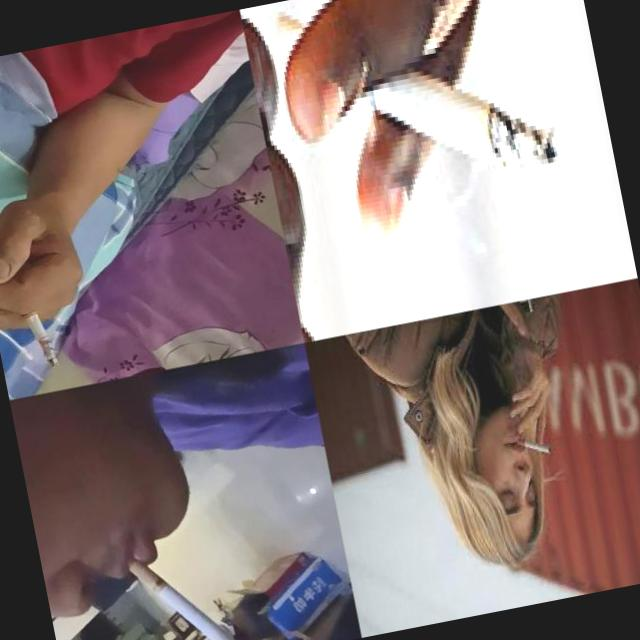cigarette: (270, 0, 563, 221), (125, 540, 250, 640), (10, 289, 60, 373), (516, 432, 554, 460)
